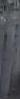cylinder: (1, 1, 20, 99)
